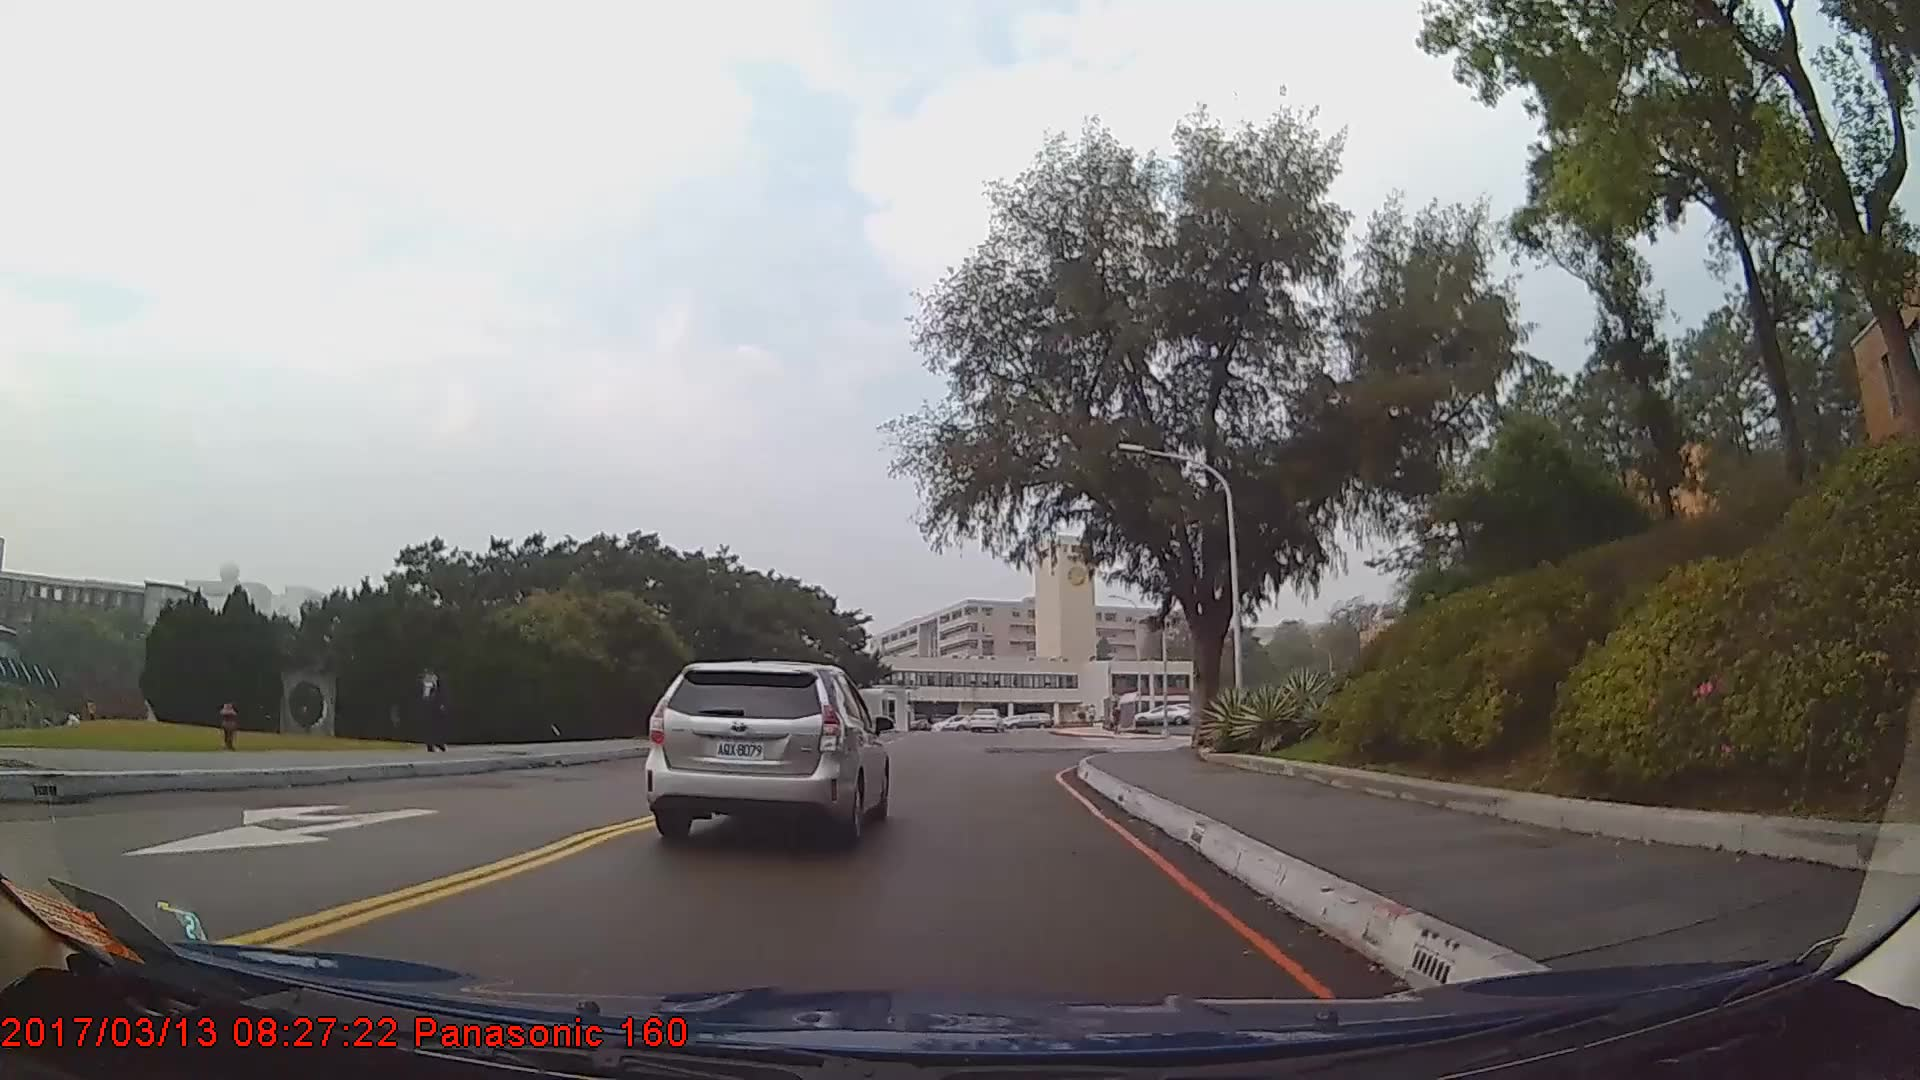pedestrian: (407, 659, 451, 753)
vehicle: (641, 658, 888, 846), (1130, 704, 1190, 726), (964, 704, 1003, 731)
